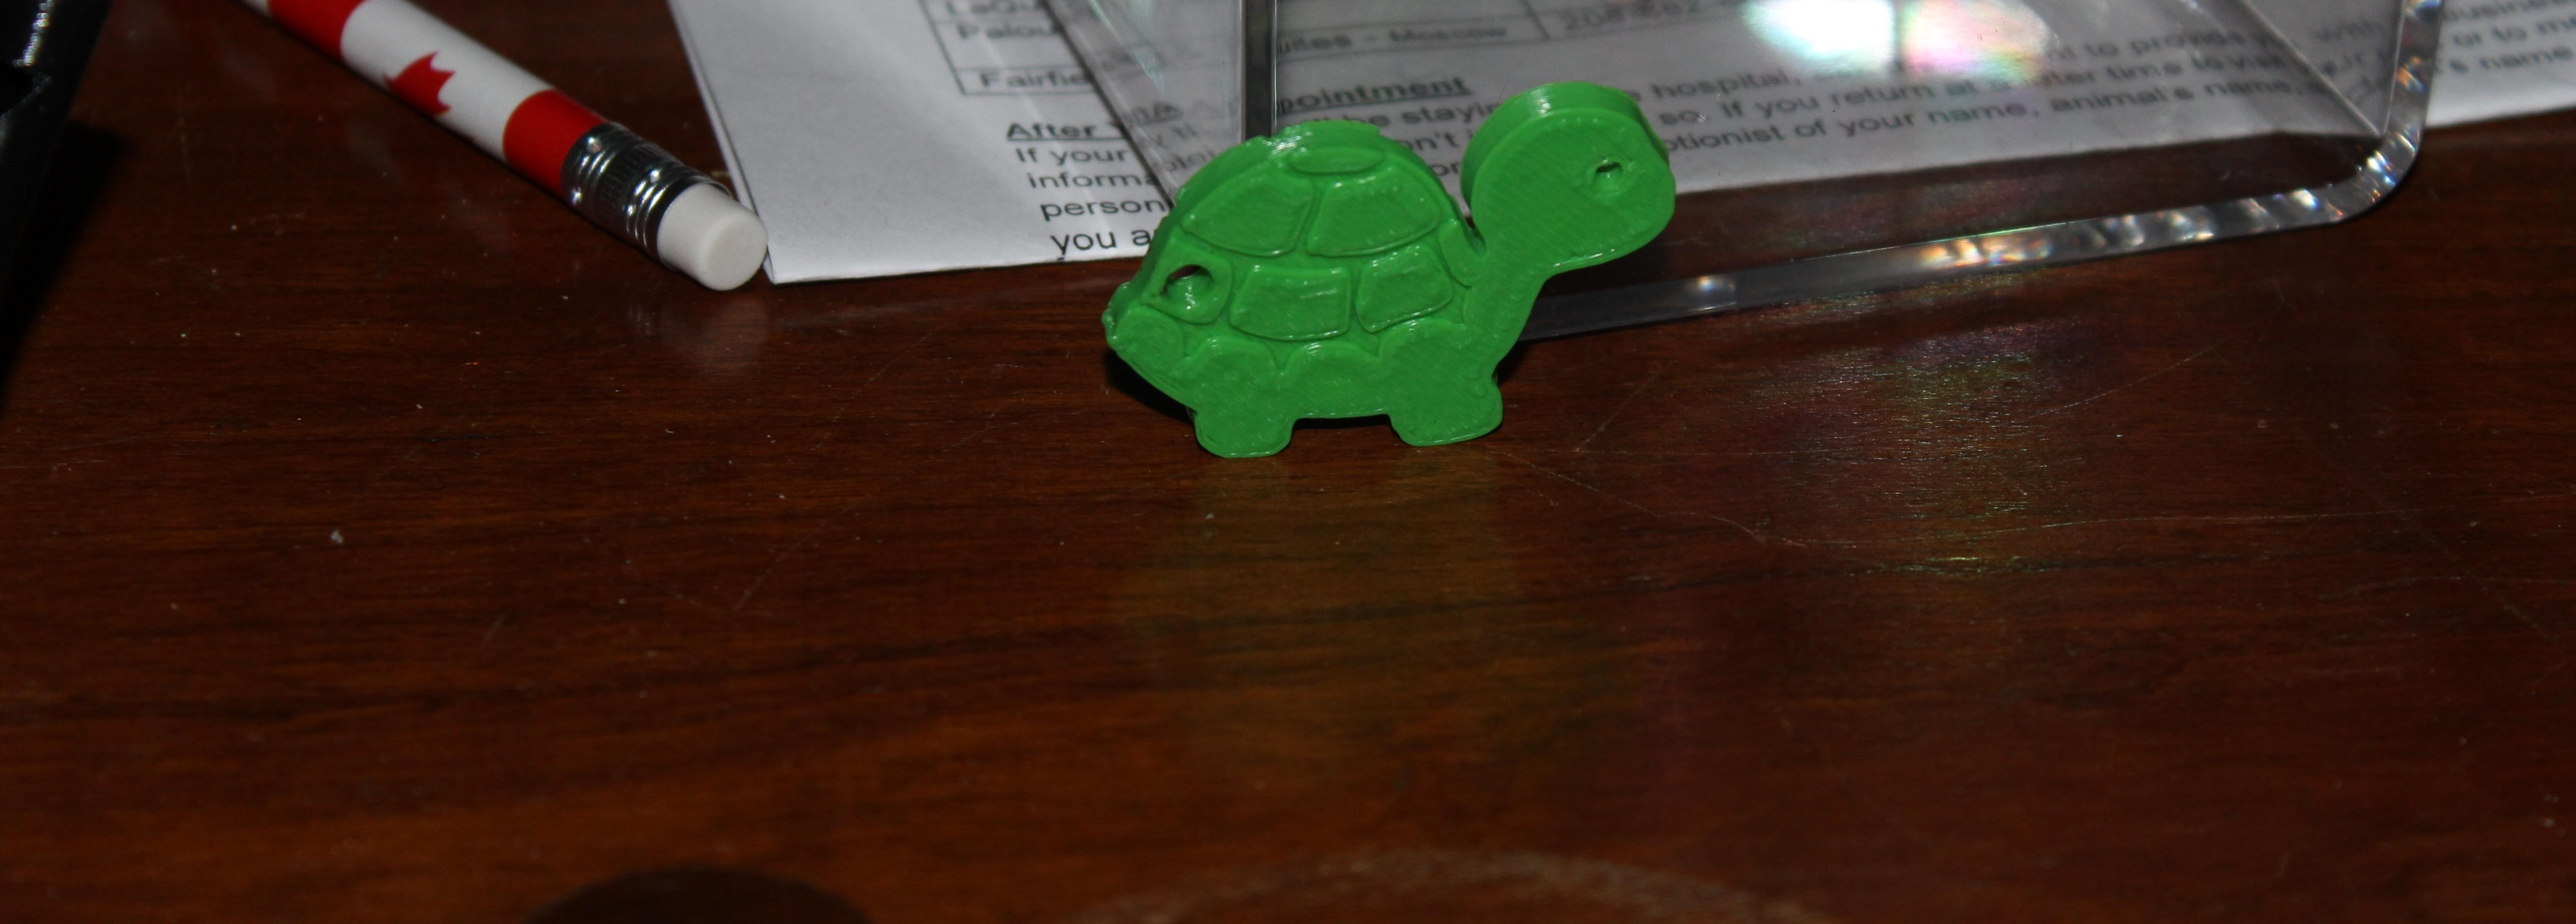turtle: (1071, 51, 1694, 486)
